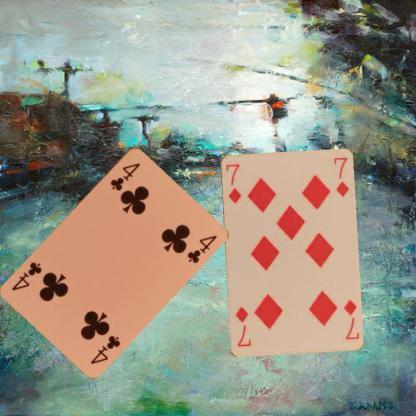4c: (107, 159, 142, 192), (88, 332, 122, 365)
7d: (340, 296, 360, 341), (223, 161, 243, 205)
